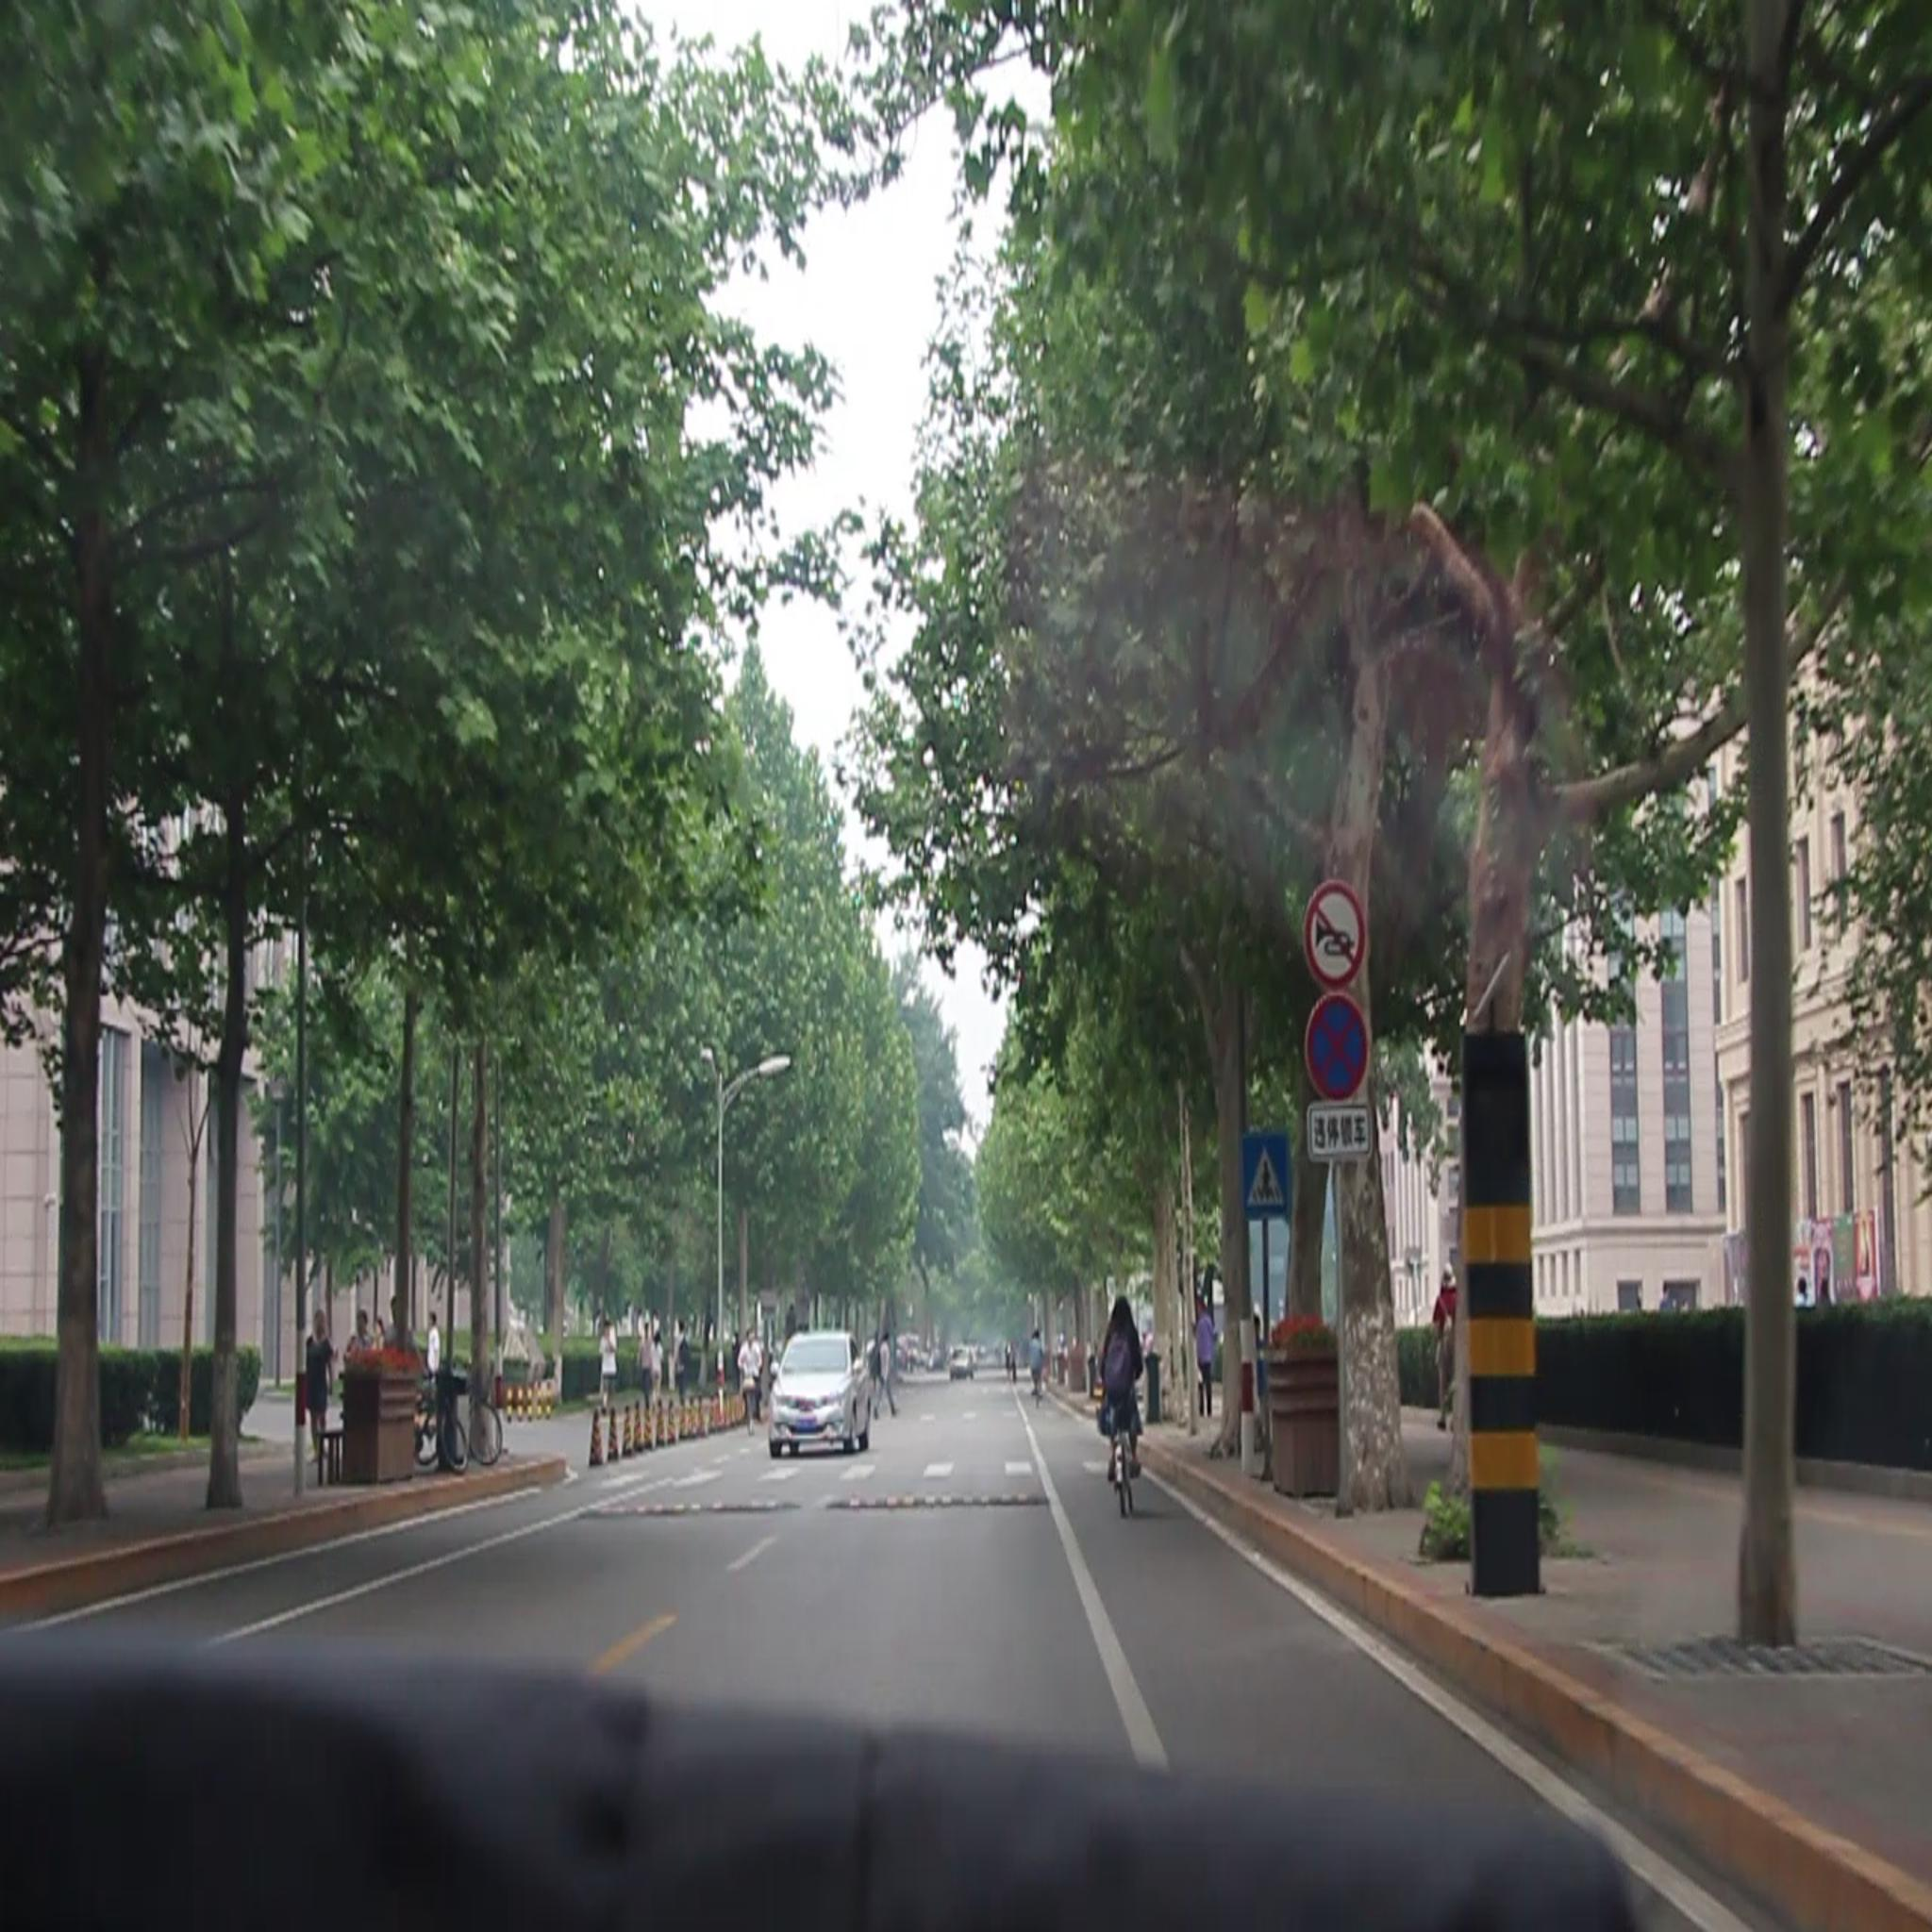ip: (1240, 1129, 1299, 1224)
p11: (1307, 885, 1355, 989)
pn: (1309, 1000, 1376, 1111)
